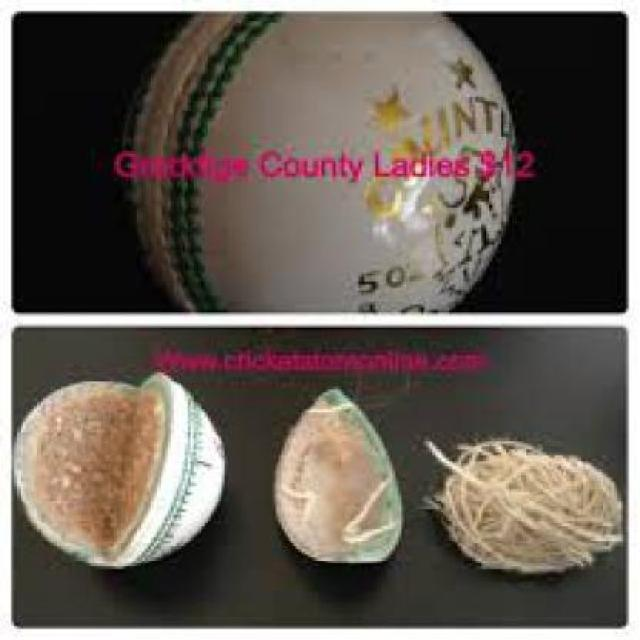ball: (78, 10, 582, 321)
